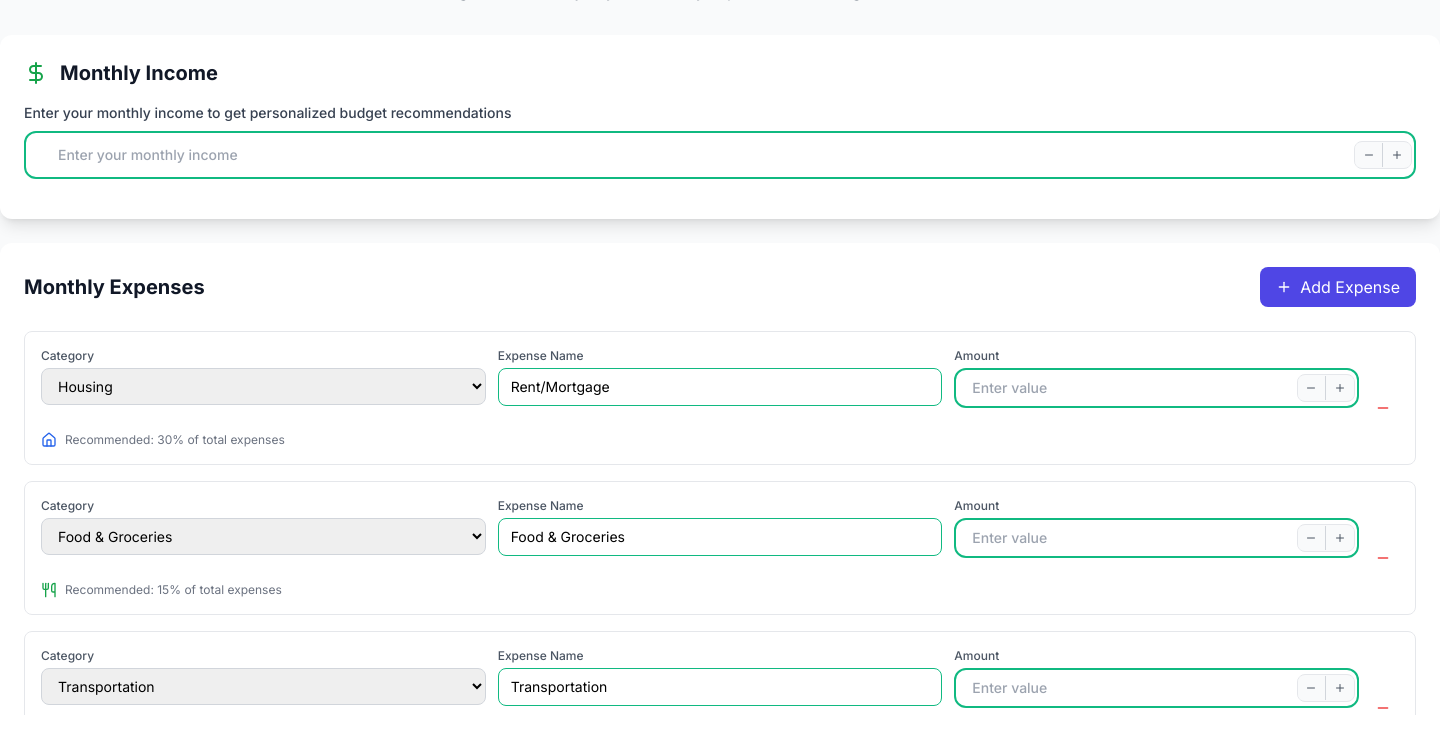
MonthlyExpenseCalculator - Comprehensive Recursive Test Suite › 🔄 Income vs Expense Analysis › should calculate correct expense ratio
Type "5000" into the field with placeholder "Enter your monthly income".
click(720, 155); type("5000")  # box [24, 131, 1416, 179]
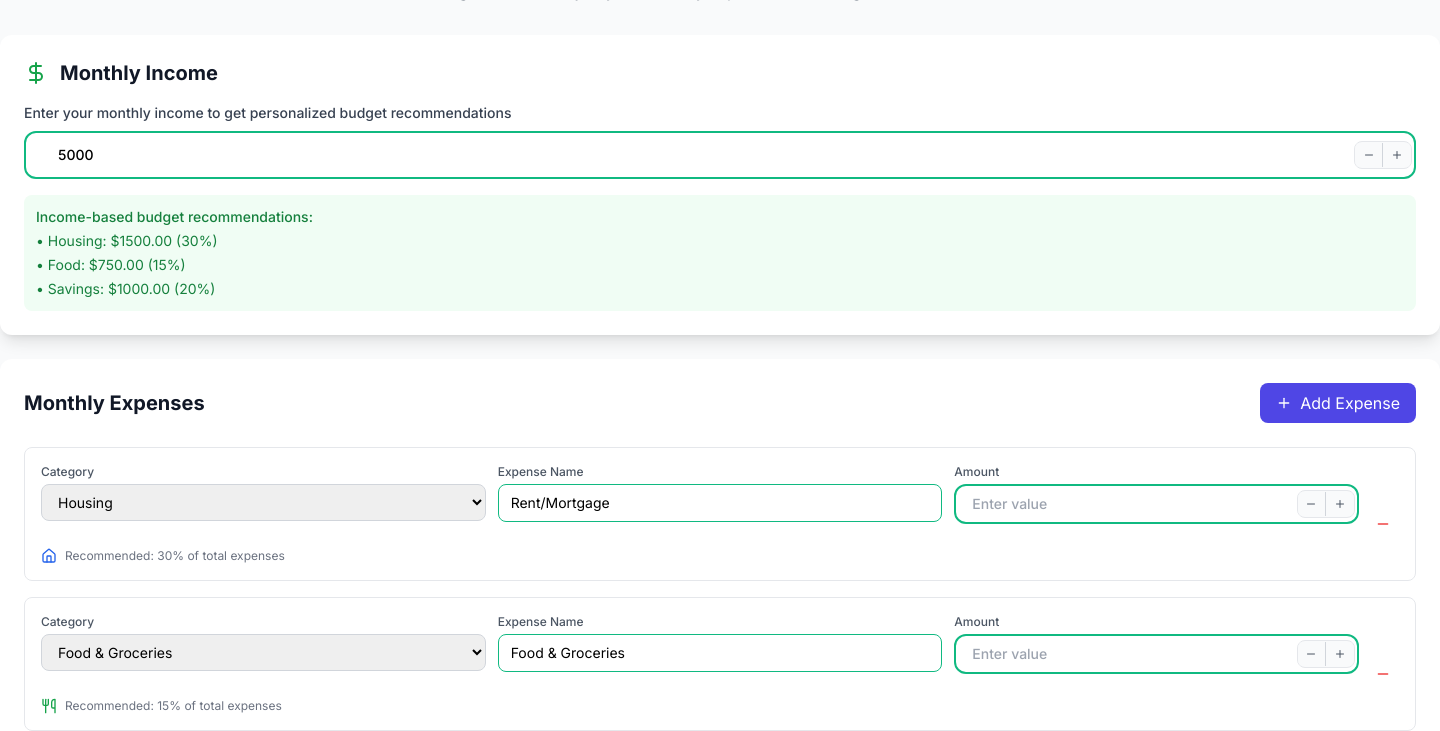
Type "1500" into the 1st field with placeholder "Enter value".
click(1157, 504); type("1500")  # box [954, 484, 1359, 524]
(page scrolled)
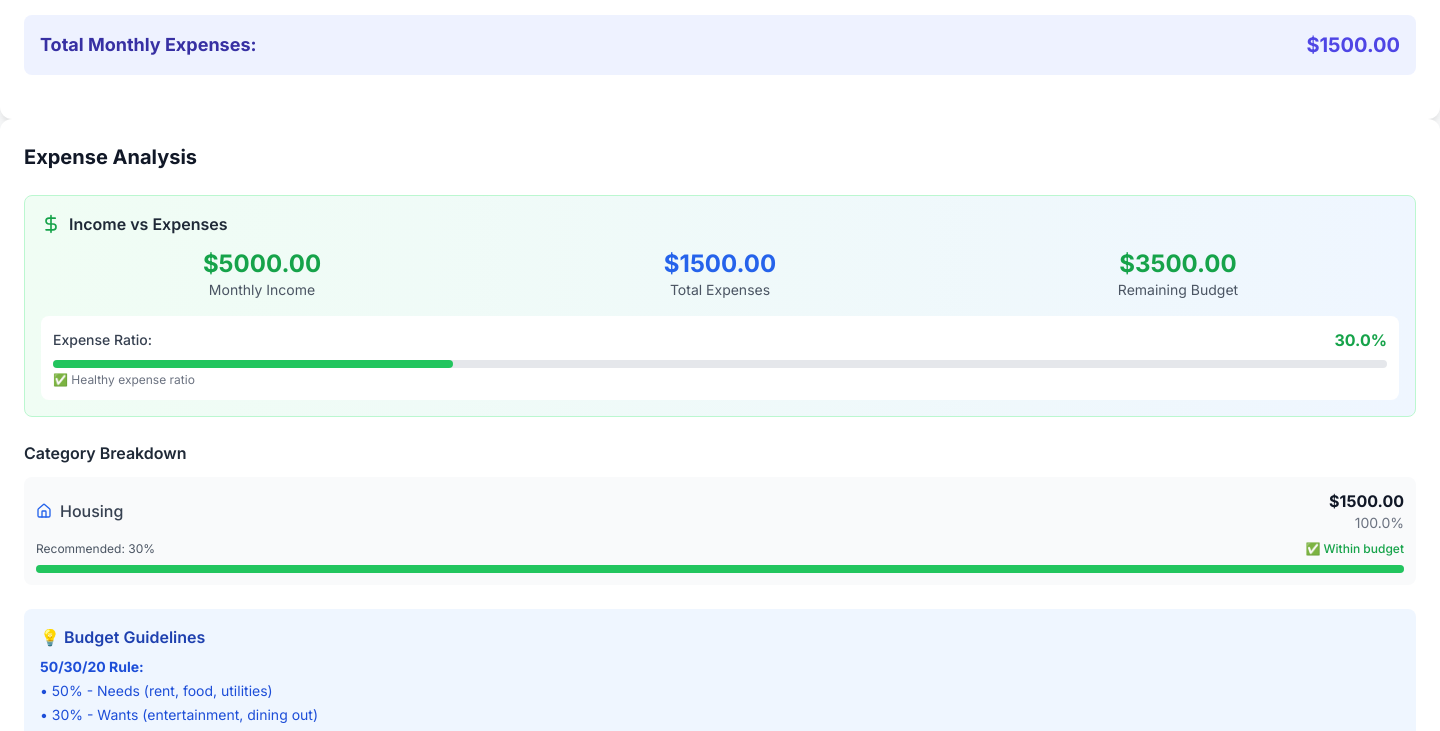
Now the text "Expense Ratio:" is shown, box [53, 330, 152, 350]
Now the text "30.0%" is shown, box [1334, 328, 1387, 352]
